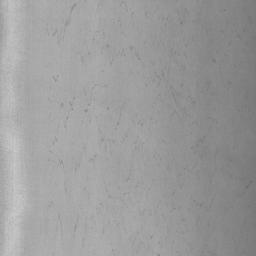Silk spot: (168, 86, 180, 104)
